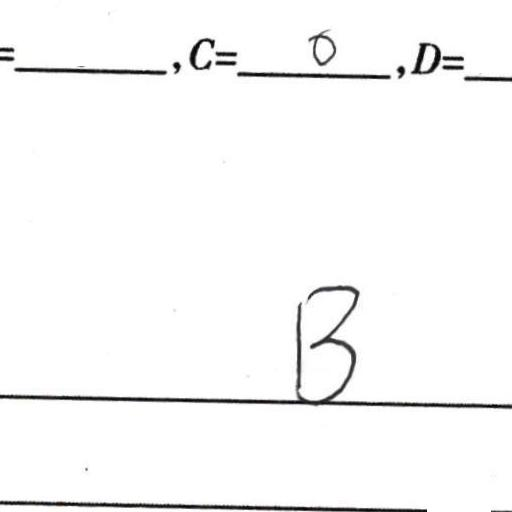ans: (284, 277, 362, 406), (306, 25, 339, 69)
